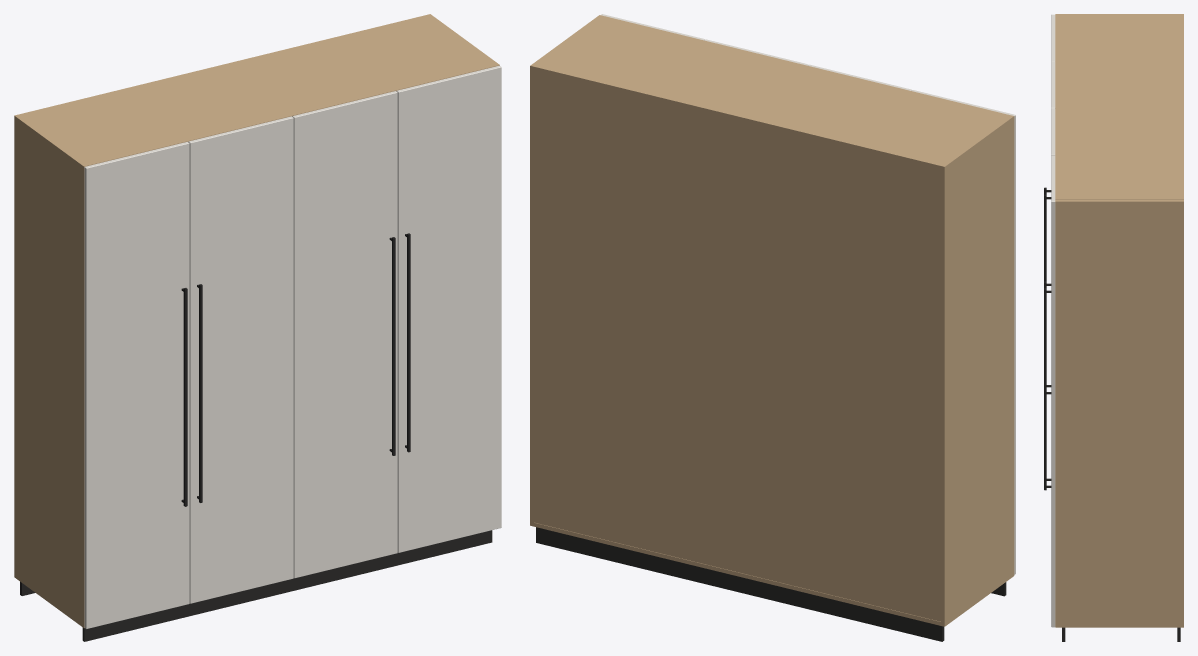
File: 05_szafa_4d_200.glb
3 renders of one model, left to right at view 1: azimuth 30°, elevation 25°; view 2: azimuth 150°, elevation 25°; view 3: azimuth 270°, elevation 25°, orthographic. The views are drawn at different scales.
Parts seen in each view (by area): view 1: Korpus, Front_drzwi_1, Front_drzwi_2, Front_drzwi_4, Front_drzwi_3, Cokol, Uchwyty; view 2: Korpus, Cokol, Front_drzwi_1; view 3: Korpus, Front_drzwi_4, Uchwyty, Front_drzwi_1, Front_drzwi_2, Front_drzwi_3.
Boxes of the visible parts, bbox=[...] form: Korpus: bbox=[14, 14, 499, 627]; Front_drzwi_1: bbox=[84, 142, 189, 628]; Front_drzwi_2: bbox=[188, 116, 293, 603]; Front_drzwi_4: bbox=[396, 65, 501, 552]; Front_drzwi_3: bbox=[292, 91, 397, 578]; Cokol: bbox=[20, 530, 492, 641]; Uchwyty: bbox=[181, 233, 410, 506]; Korpus: bbox=[530, 15, 1014, 626]; Cokol: bbox=[536, 527, 1006, 641]; Front_drzwi_1: bbox=[912, 90, 1015, 574]; Korpus: bbox=[1055, 14, 1183, 627]; Front_drzwi_4: bbox=[1051, 155, 1055, 627]; Uchwyty: bbox=[1044, 187, 1051, 490]; Front_drzwi_1: bbox=[1051, 14, 1055, 61]; Front_drzwi_2: bbox=[1051, 61, 1055, 108]; Front_drzwi_3: bbox=[1051, 108, 1055, 155].
Bounding box in the file's own units: 2 × 2.2 × 0.63.
